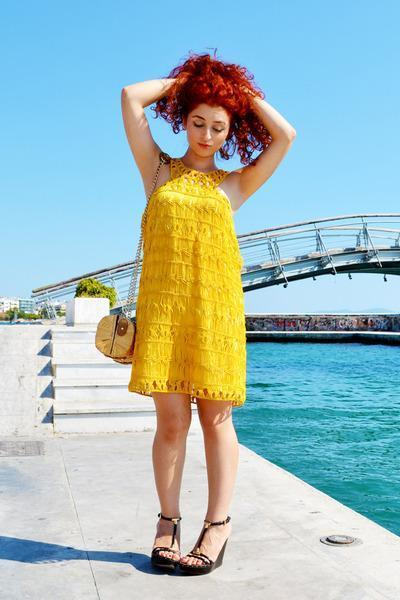bag: (95, 307, 136, 359)
dress: (123, 168, 254, 405)
shoe: (150, 516, 225, 575)
